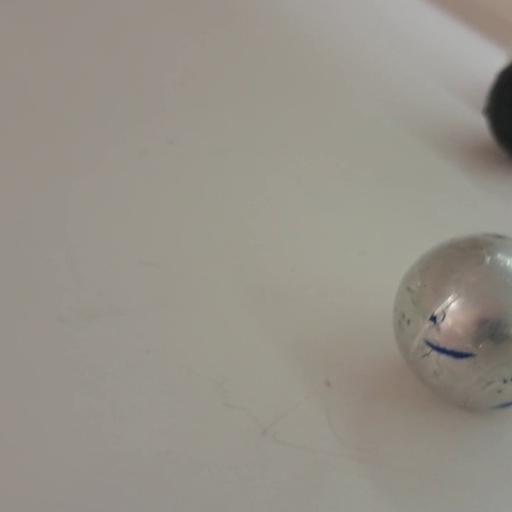alive: (388, 231, 512, 414)
dead: (487, 55, 512, 155)
